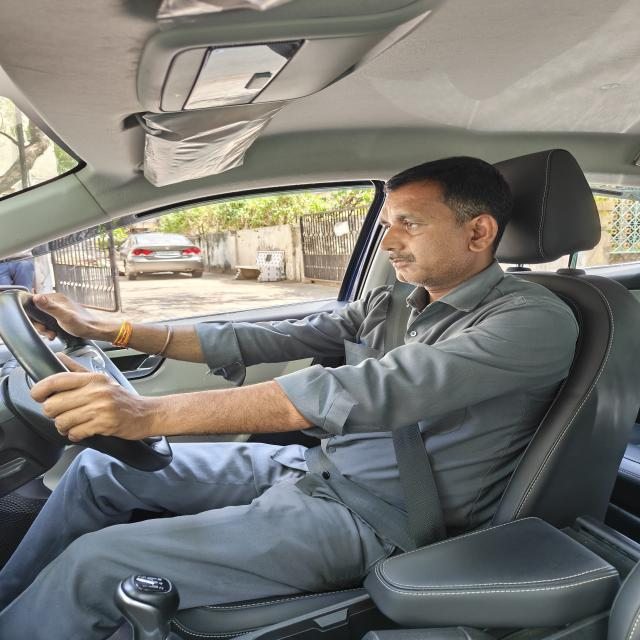seatbelt: (304, 268, 534, 560)
